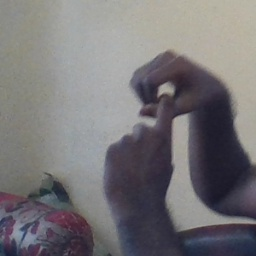Q: (103, 48, 219, 186)
